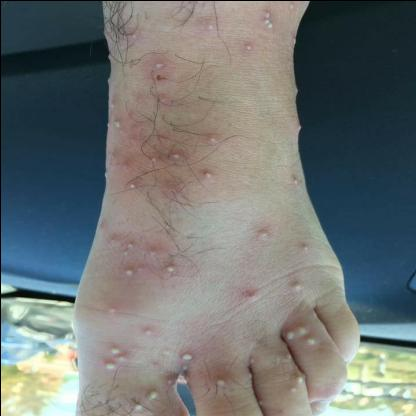Fire ant: (96, 220, 136, 256), (281, 322, 318, 346), (130, 386, 161, 414), (99, 344, 129, 372), (134, 90, 168, 107), (254, 7, 278, 31), (109, 146, 135, 168), (119, 261, 150, 279), (106, 100, 123, 132), (246, 356, 264, 384), (177, 350, 197, 374), (284, 374, 308, 392), (252, 226, 276, 242), (165, 376, 194, 388), (124, 176, 144, 193), (212, 371, 232, 387), (146, 57, 168, 70), (238, 286, 258, 300), (203, 131, 221, 146), (292, 241, 312, 254), (156, 346, 172, 361), (199, 167, 215, 181), (168, 146, 182, 162), (162, 262, 178, 276), (202, 20, 220, 32), (285, 280, 303, 292), (279, 351, 296, 363), (104, 73, 118, 87), (142, 323, 156, 337), (240, 42, 256, 54), (286, 171, 298, 187), (148, 150, 160, 166), (106, 304, 121, 316), (147, 247, 163, 257), (129, 28, 141, 40), (104, 50, 116, 62), (284, 0, 298, 10), (292, 121, 304, 132), (252, 400, 268, 408), (288, 35, 300, 45), (103, 169, 111, 183), (291, 86, 301, 96)
